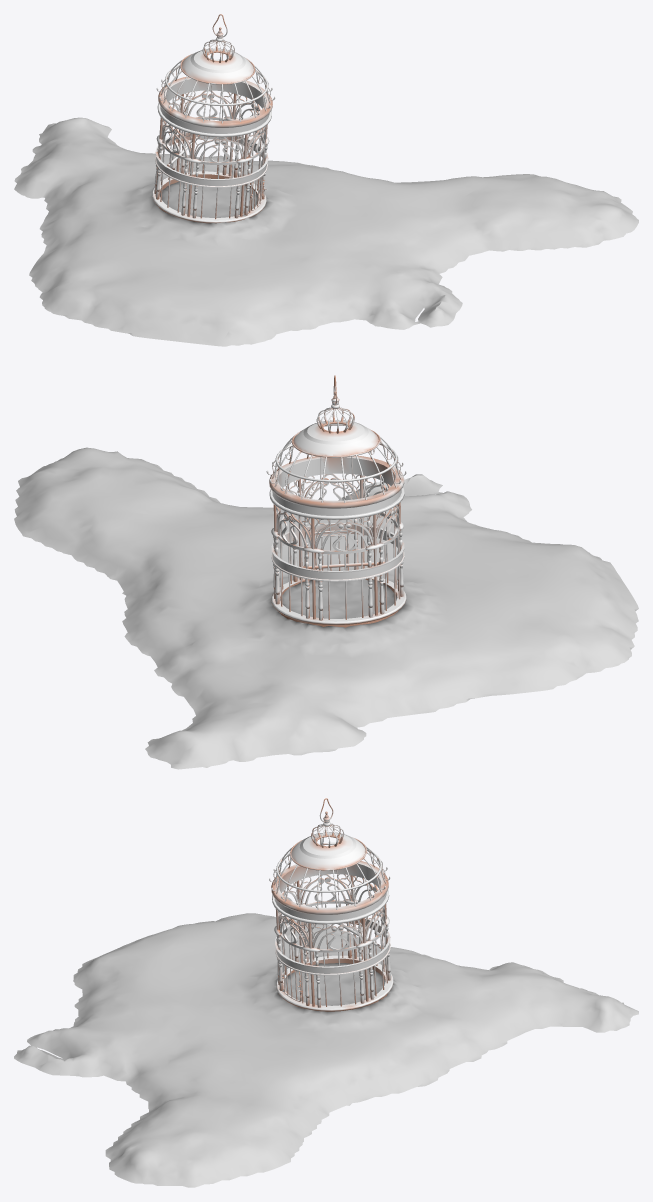
File: iskand2n.glb
3 renders of one model, top to bottom at view 1: azimuth 30°, elevation 25°; view 2: azimuth 150°, elevation 25°; view 3: azimuth 270°, elevation 25°, orthographic. The views are drawn at different scales.
Parts seen in each view (by area): view 1: island_2.001, klitka; view 2: island_2.001, klitka; view 3: island_2.001, klitka.
Boxes of the visible parts, bbox=[...] form: island_2.001: bbox=[14, 117, 638, 346]; klitka: bbox=[152, 14, 275, 223]; island_2.001: bbox=[14, 447, 638, 769]; klitka: bbox=[266, 375, 406, 627]; island_2.001: bbox=[14, 913, 638, 1187]; klitka: bbox=[269, 798, 393, 1011].
Size of the model in its own units: 7.84 by 3 by 7.62.
